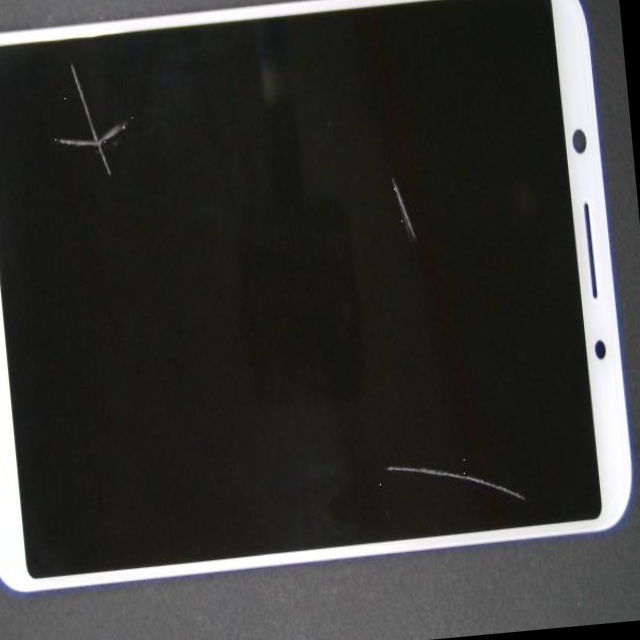scratch: (53, 162, 640, 640), (137, 59, 640, 432), (23, 72, 180, 178)
